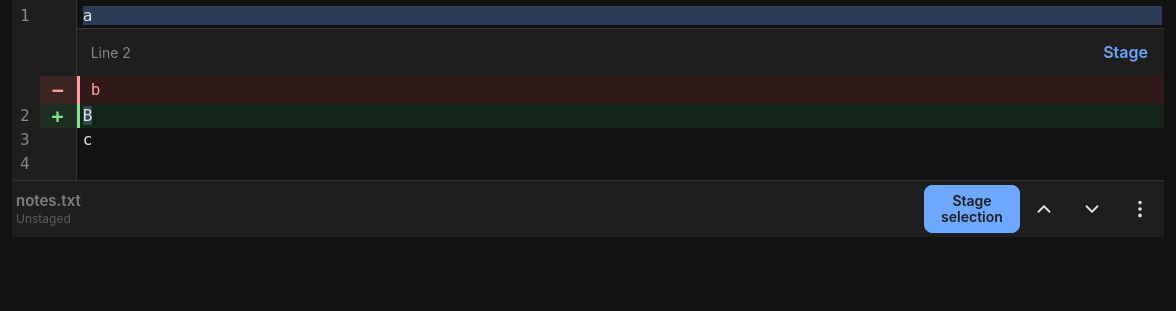
staging › leaves the selection for another try when the stage fails
Expected: the field with class "cm-content" is shown, [77,0,1164,180]
Click the button "Stage selection" at [972, 209], box [924,185,1020,233]
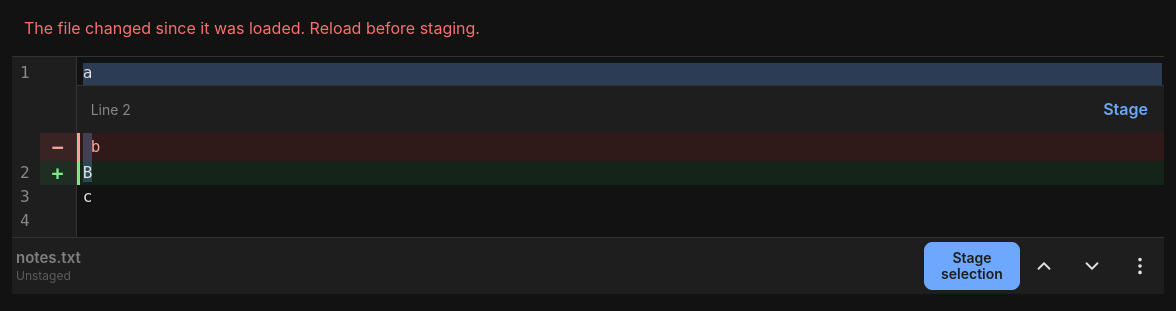
Expected: the text "The file changed since it was loaded. Reload before staging." is shown, [12,0,1164,57]
Click the button "Stage selection" at [972, 266], box [924,242,1020,290]
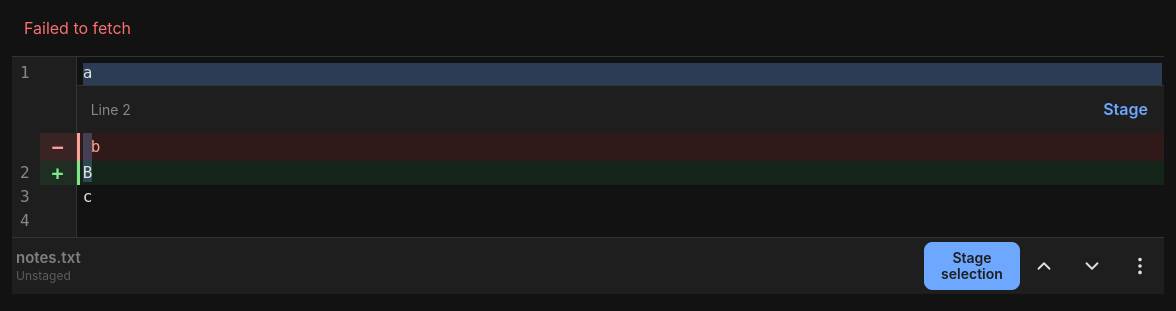
Expected: the text "Failed to fetch" is shown, [12,0,1164,57]
